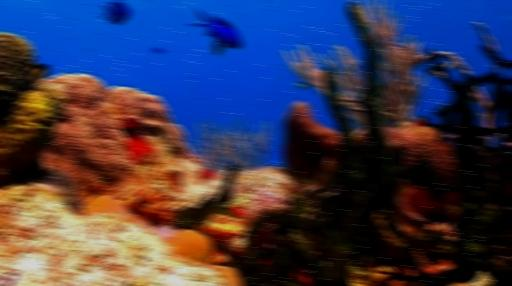Fish: (187, 7, 242, 48), (102, 0, 131, 24), (34, 63, 49, 84), (151, 46, 164, 53), (214, 41, 221, 54), (296, 81, 307, 88)
